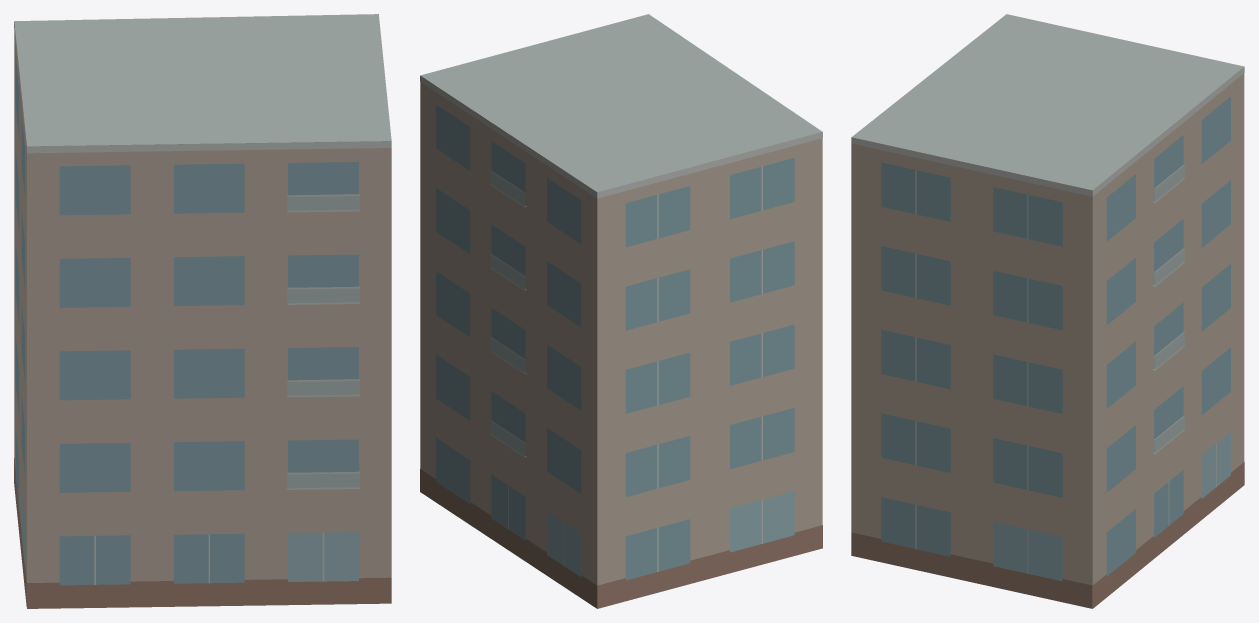
File: survey-upis-32884936.glb
The picture shows the model from 3 angles, left to right: view 1: azimuth 30°, elevation 25°; view 2: azimuth 150°, elevation 25°; view 3: azimuth 270°, elevation 25°; orthographic projection. The views are drawn at different scales.
Parts seen in each view (by area): view 1: survey-upis-32884936.tmp; view 2: survey-upis-32884936.tmp; view 3: survey-upis-32884936.tmp.
Boxes of the visible parts, x1,y1,x2,y2 form: survey-upis-32884936.tmp: (14, 14, 391, 608); survey-upis-32884936.tmp: (420, 14, 822, 608); survey-upis-32884936.tmp: (851, 14, 1244, 608).
Bounding box in the file's own units: 14.65 × 16.2 × 13.8.
